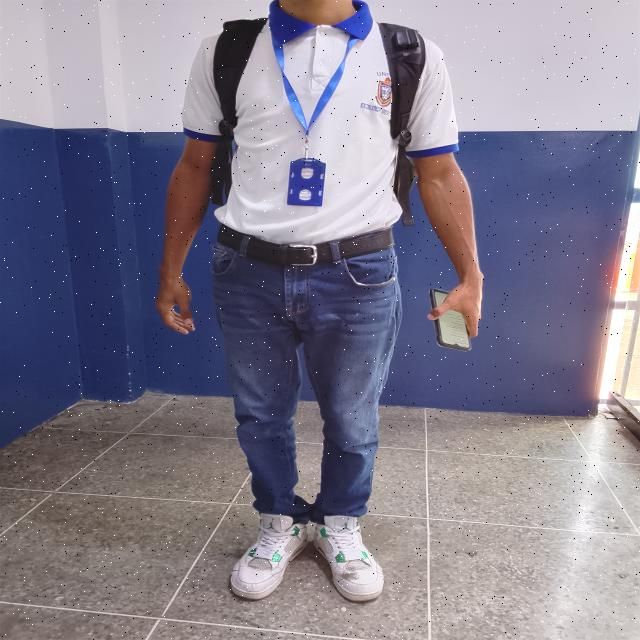carnet: (287, 161, 326, 206)
pantalon_oscuro: (211, 239, 404, 526)
uniforme_superior: (180, 0, 460, 245)
